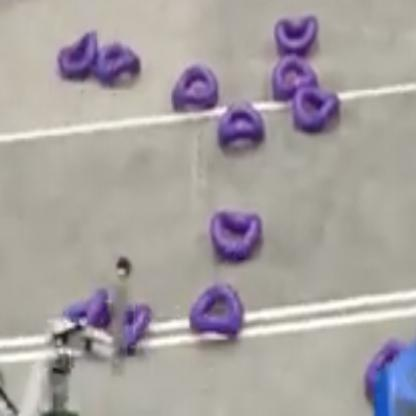ring: (189, 282, 241, 335), (210, 209, 262, 257), (364, 337, 404, 394), (170, 63, 218, 107), (291, 87, 338, 130), (56, 28, 98, 76), (272, 53, 316, 98), (92, 41, 140, 82), (219, 102, 264, 144), (65, 288, 109, 326), (274, 16, 317, 49), (124, 303, 150, 341)
